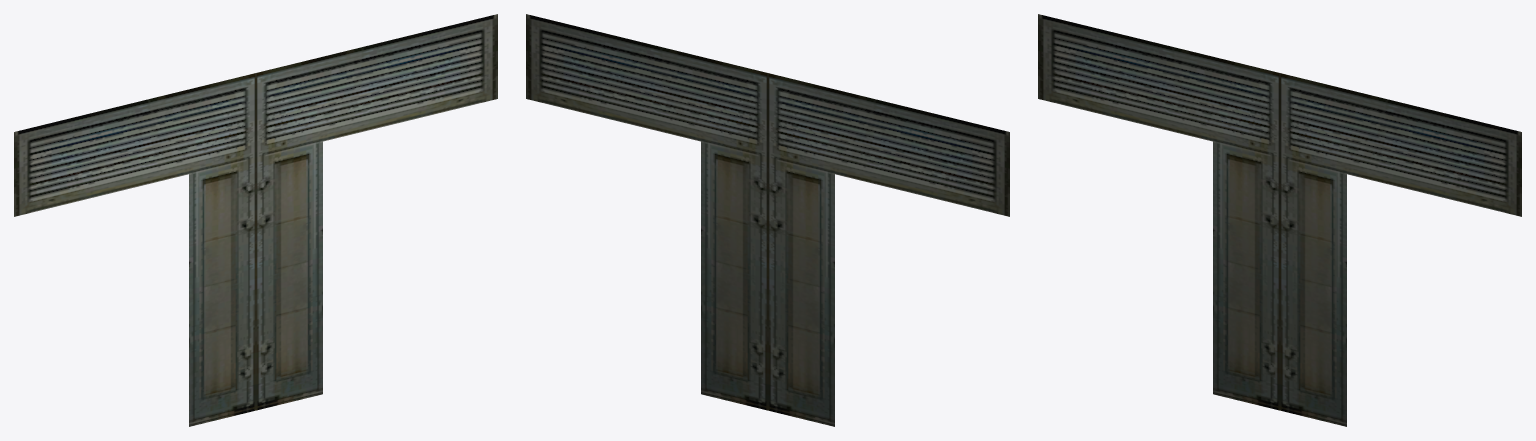
File: M2_GateBack.glb
3 views of the same model, side by side, from view 1: azimuth 30°, elevation 25°; view 2: azimuth 150°, elevation 25°; view 3: azimuth 330°, elevation 25° (orthographic).
Parts seen in each view (by area): view 1: M2_GATEBACK; view 2: M2_GATEBACK; view 3: M2_GATEBACK.
Boxes of the visible parts, bbox=[...] form: M2_GATEBACK: bbox=[14, 14, 497, 426]; M2_GATEBACK: bbox=[526, 14, 1009, 426]; M2_GATEBACK: bbox=[1038, 14, 1521, 426].
Size of the model in its own units: 6 by 4 by 0.
1 material, 1 textured.
